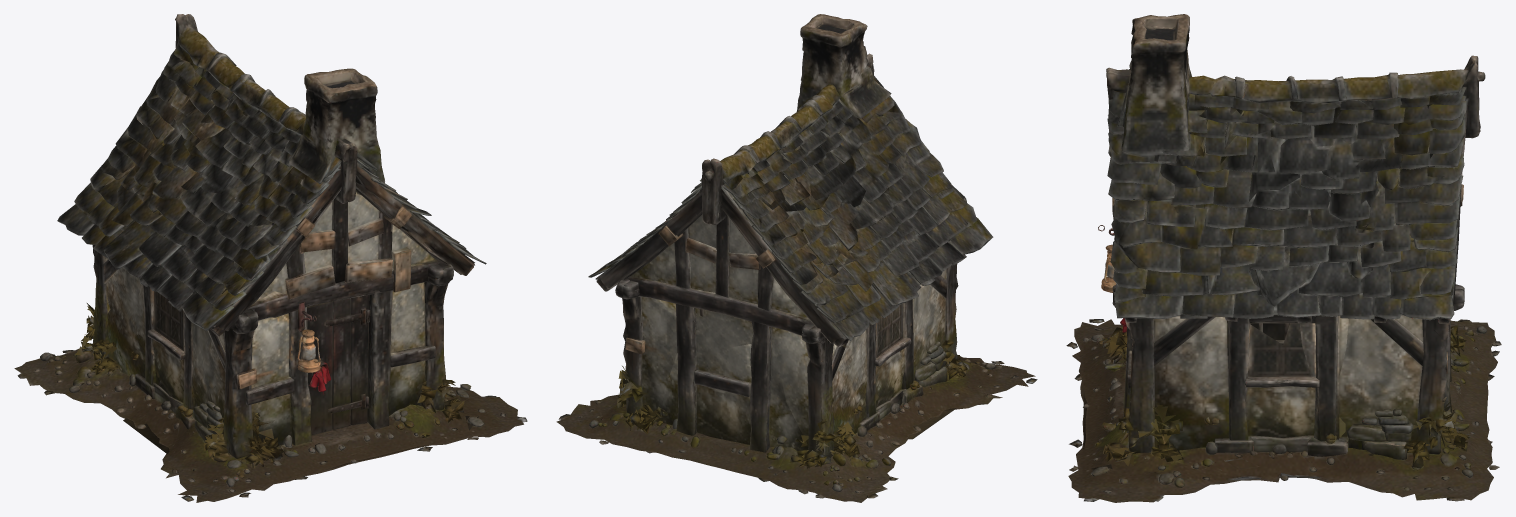
The model's file is vil-house-a.glb.
3 views of the same model, side by side, from view 1: azimuth 30°, elevation 25°; view 2: azimuth 150°, elevation 25°; view 3: azimuth 270°, elevation 25° (orthographic). The views are drawn at different scales.
Bounding box in the file's own units: 0.9595 × 0.9526 × 0.958.
Materials: 1 (1 with a texture image).
